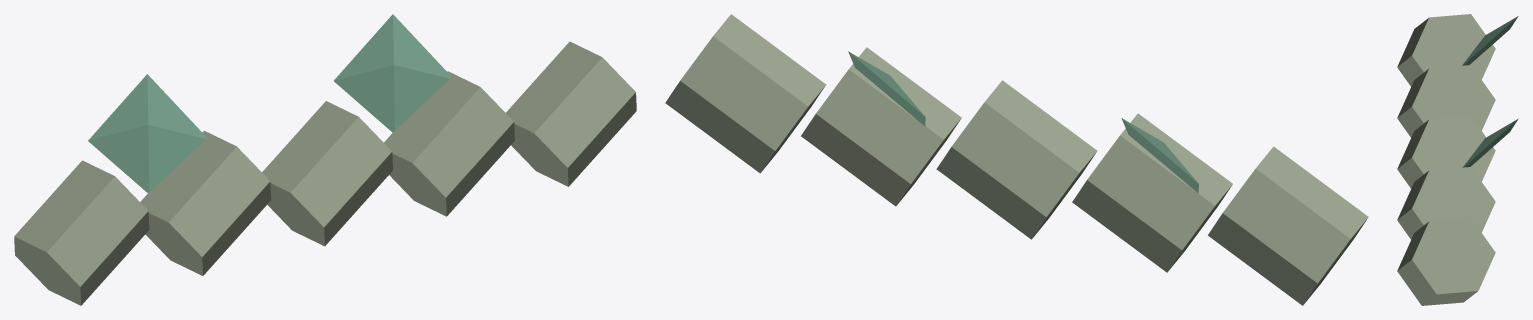
Rendered from map-exclusive-v3__ruins_16.glb.
3 views of the same model, side by side, from view 1: azimuth 30°, elevation 25°; view 2: azimuth 150°, elevation 25°; view 3: azimuth 270°, elevation 25° (orthographic). The views are drawn at different scales.
Parts seen in each view (by area): view 1: ruins_16; view 2: ruins_16; view 3: ruins_16.
Part boxes in pixels (left/top/right/bottom): ruins_16: left=14, top=14, right=636, bottom=305; ruins_16: left=665, top=14, right=1368, bottom=305; ruins_16: left=1397, top=14, right=1518, bottom=305.
Bounding box in the file's own units: 3.26 × 0.8192 × 0.6558.
